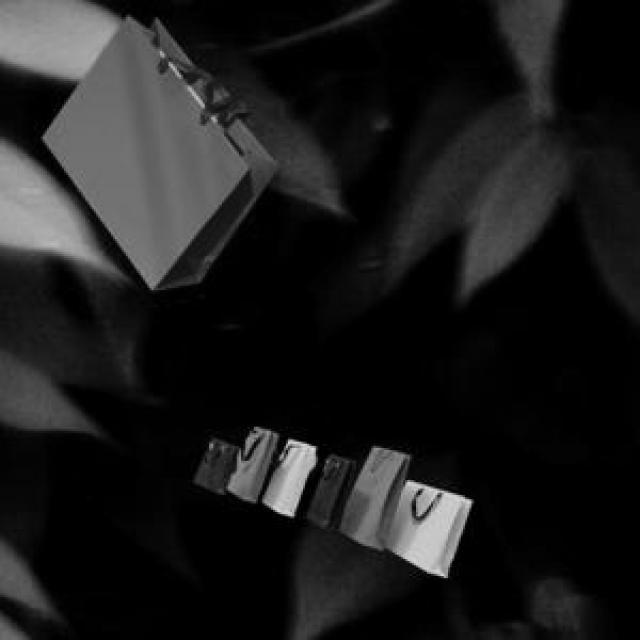paper: (38, 11, 273, 286), (190, 422, 467, 572)
